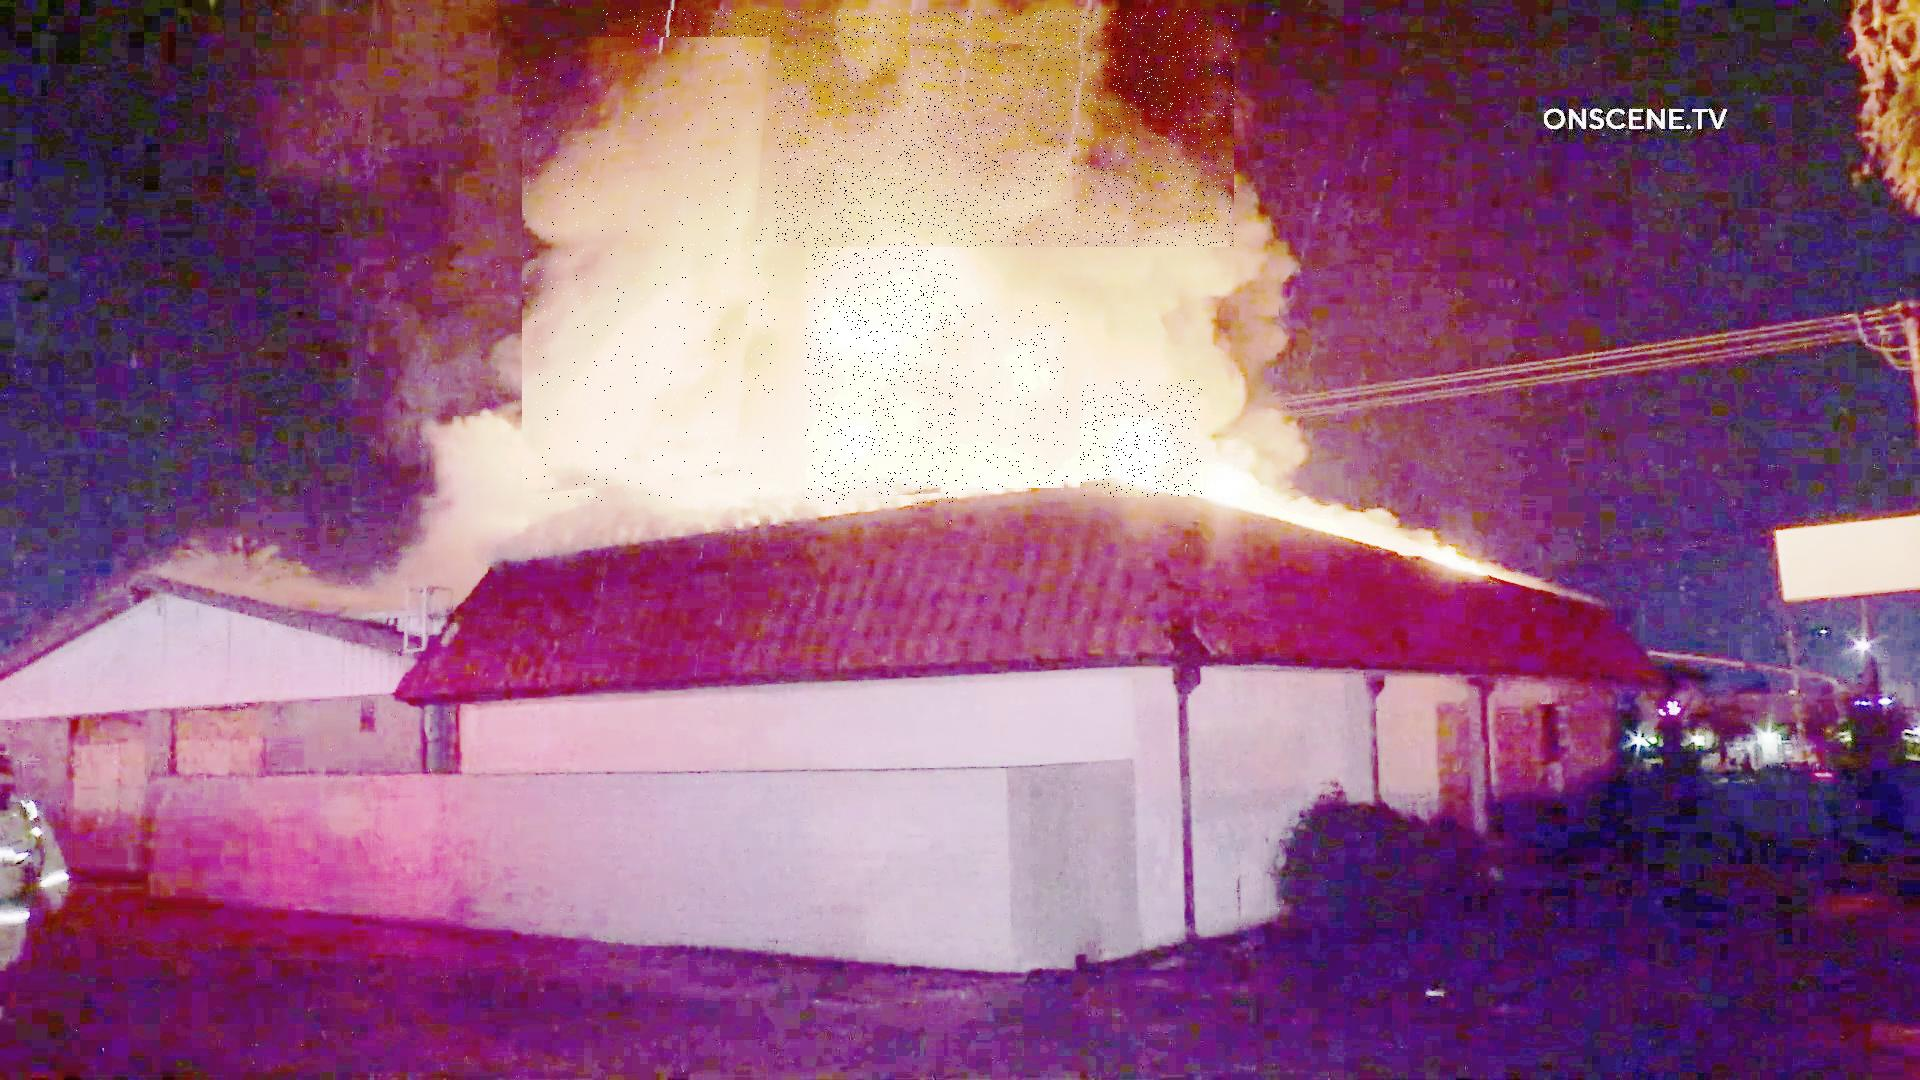fire: (806, 243, 959, 505), (961, 303, 1068, 491), (1081, 380, 1203, 497)
smoke: (603, 11, 1237, 247), (524, 38, 775, 502)
